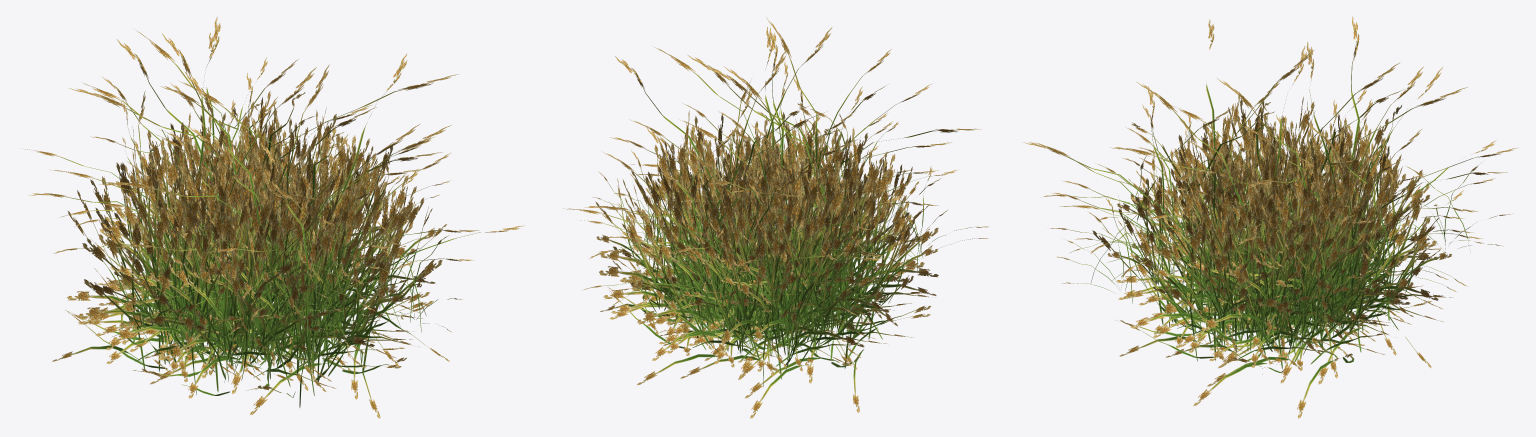
Rendered from Soft_Rush_Sedge.glb.
3 views of the same model, side by side, from view 1: azimuth 30°, elevation 25°; view 2: azimuth 150°, elevation 25°; view 3: azimuth 270°, elevation 25° (orthographic). The views are drawn at different scales.
Visible parts, largest first — view 1: sedge; view 2: sedge; view 3: sedge.
Part boxes in pixels (x1=…): sedge: x1=25, y1=16, x2=524, y2=418; sedge: x1=563, y1=17, x2=988, y2=418; sedge: x1=1023, y1=16, x2=1518, y2=418.
Bounding box in the file's own units: 2.2 × 1.6 × 2.66.
Materials: 1 (1 with a texture image).
